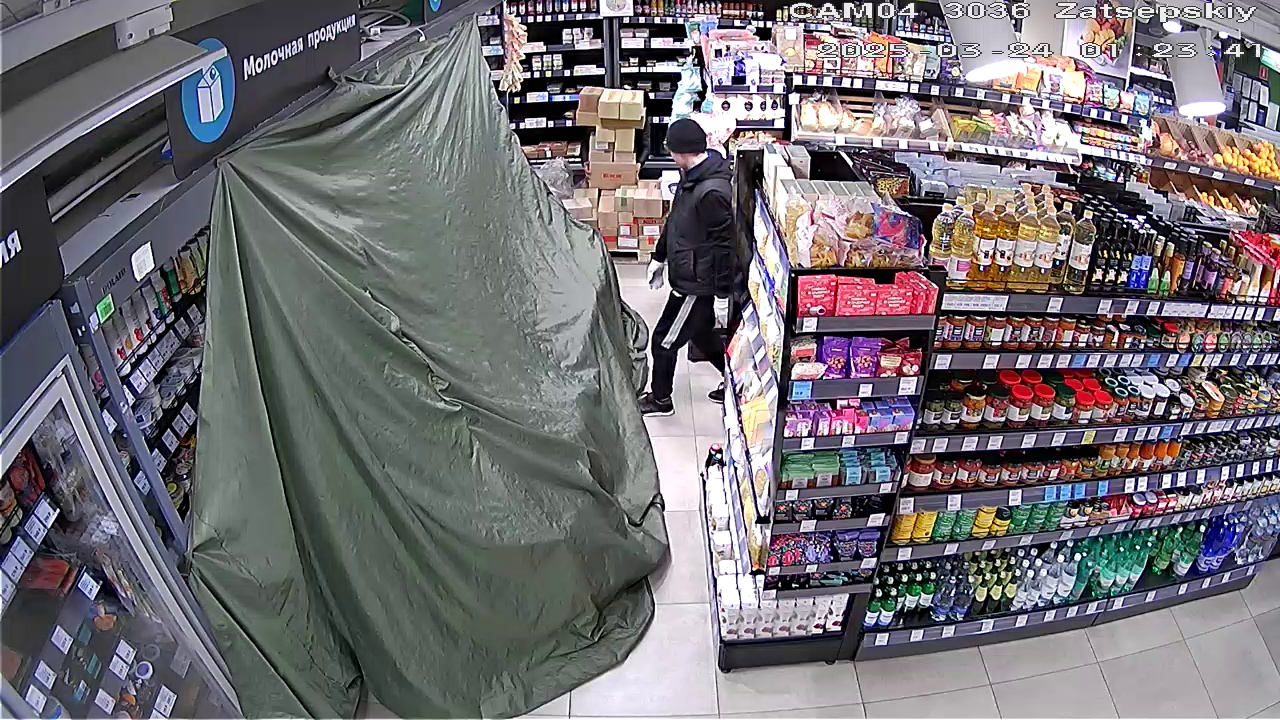Human: (633, 118, 770, 423)
dome: (200, 45, 670, 719)
pallet: (566, 83, 676, 254)
